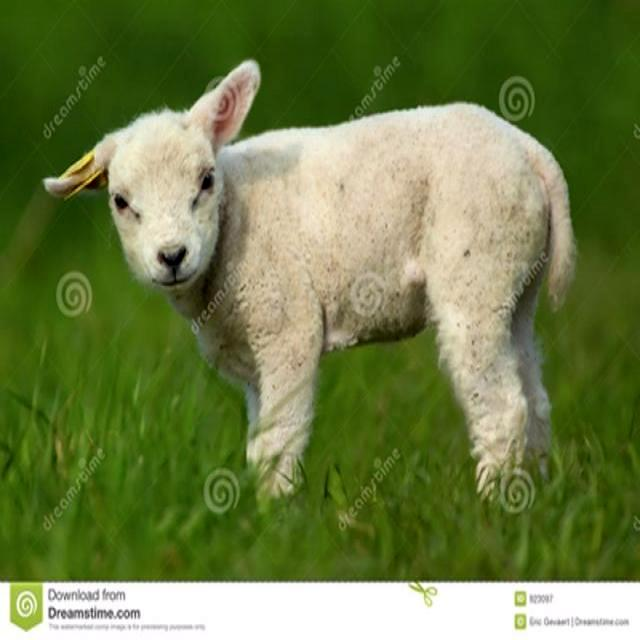sheep: (42, 63, 578, 510)
